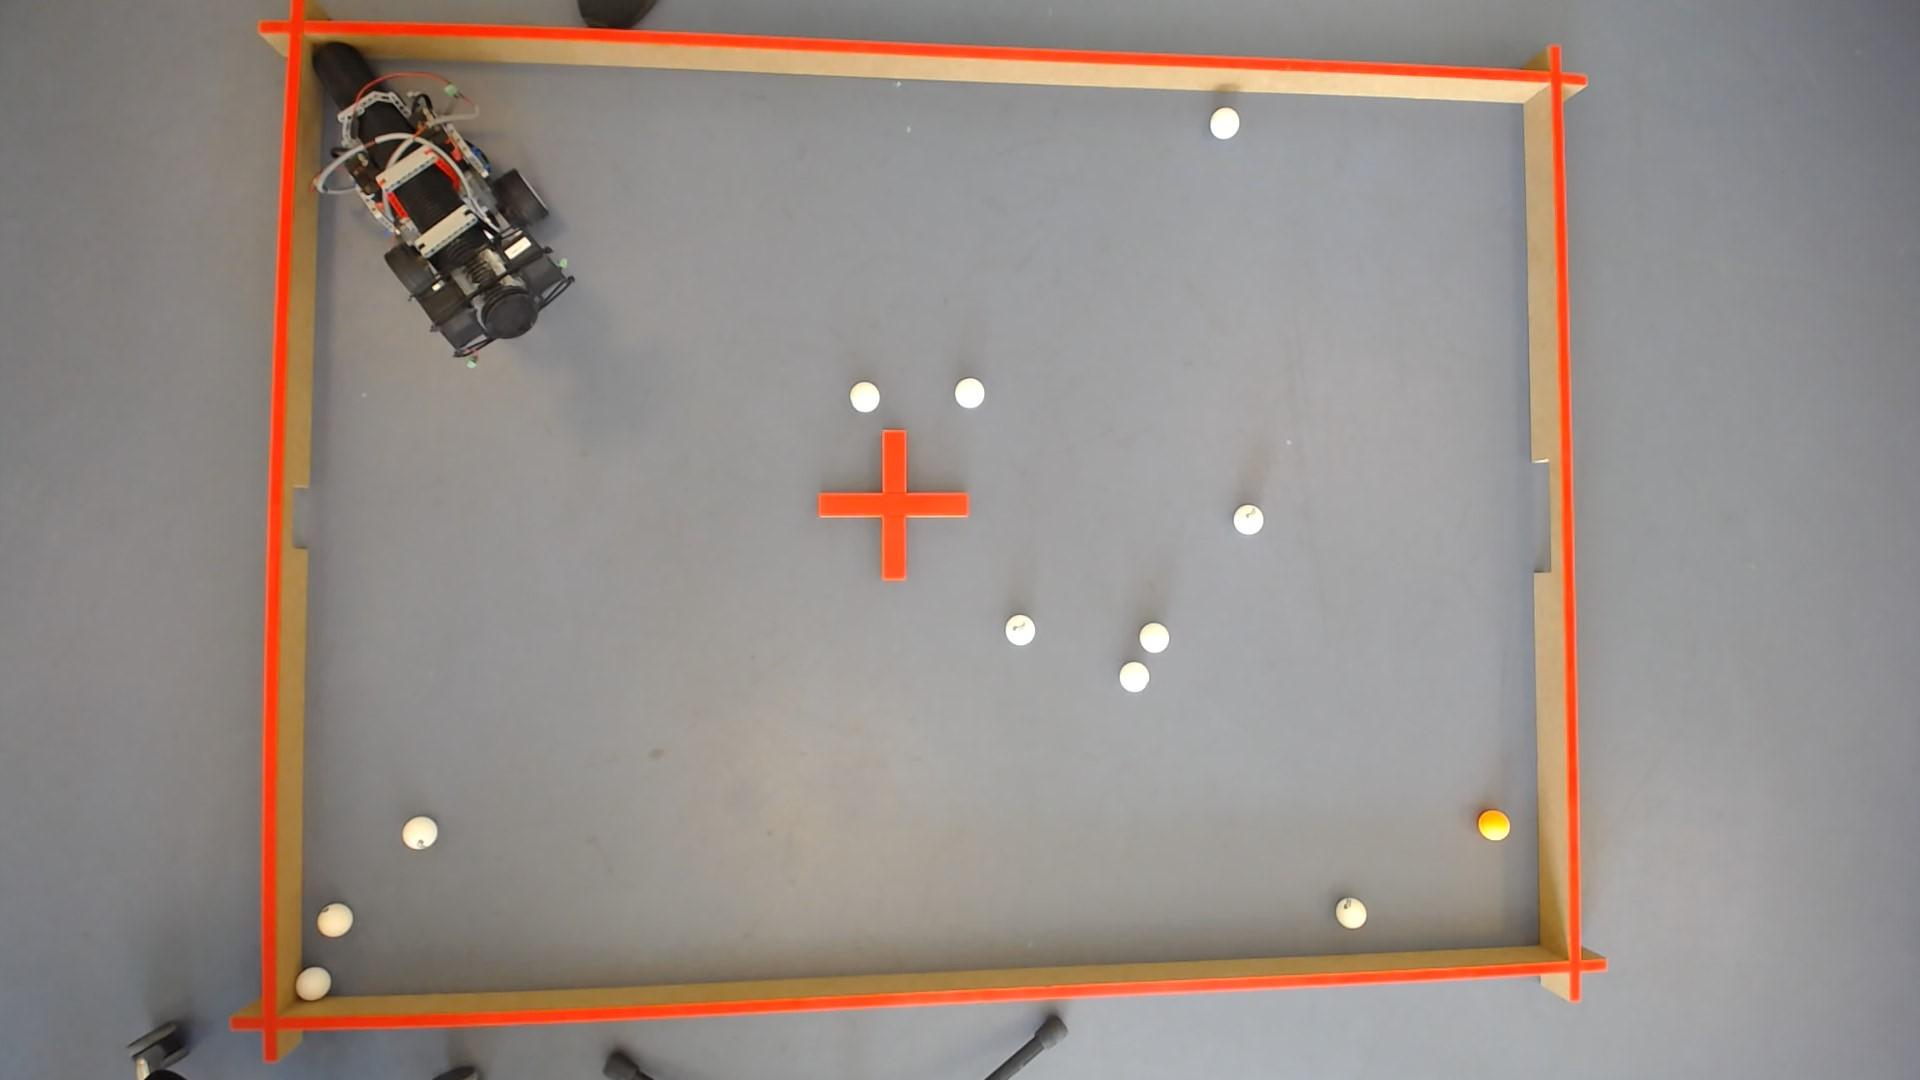orange: (1480, 810, 1513, 841)
robot: (311, 40, 574, 356)
white: (314, 903, 352, 939), (293, 967, 328, 1002), (400, 816, 436, 849), (1211, 104, 1241, 137), (1236, 502, 1266, 534), (1141, 621, 1171, 653), (1338, 898, 1369, 930), (1006, 615, 1036, 645), (956, 376, 985, 406), (851, 381, 880, 410), (1121, 662, 1150, 691)
